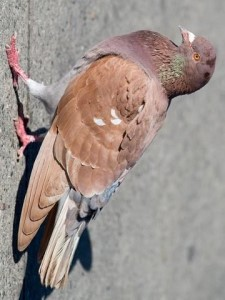pigeon: (3, 22, 218, 292)
